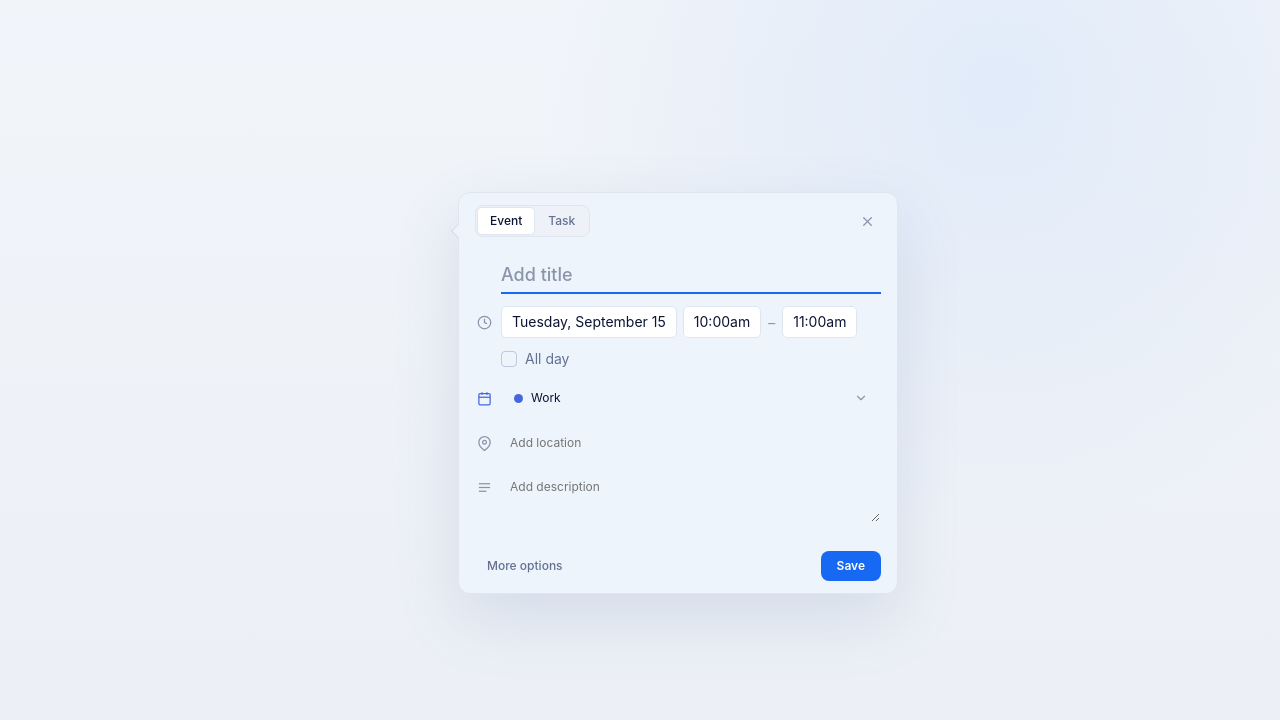
Test: QuickCreatePopover submission › rejects an empty title and returns focus to it
Step 1. Click the button "Save" → (851, 566), box [821,551,881,581]
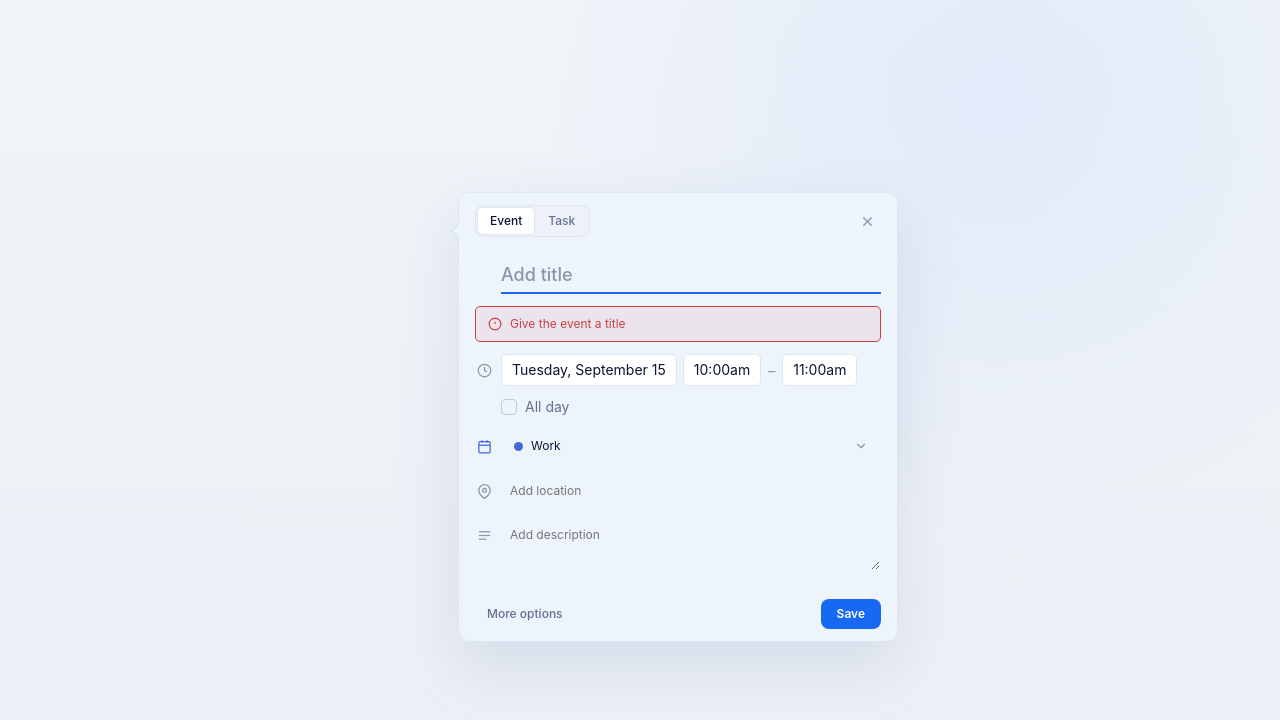
Result: the message reads "Give the event a title" at [510,316,626,331]
